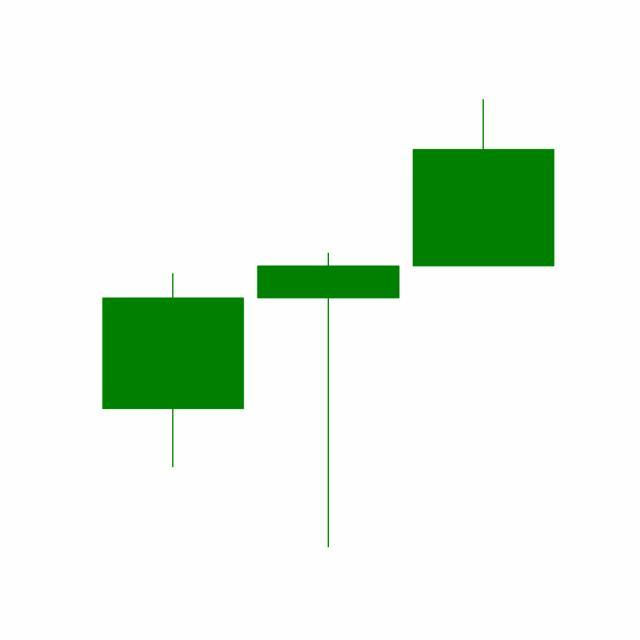Hanging Man: (250, 250, 407, 552)
